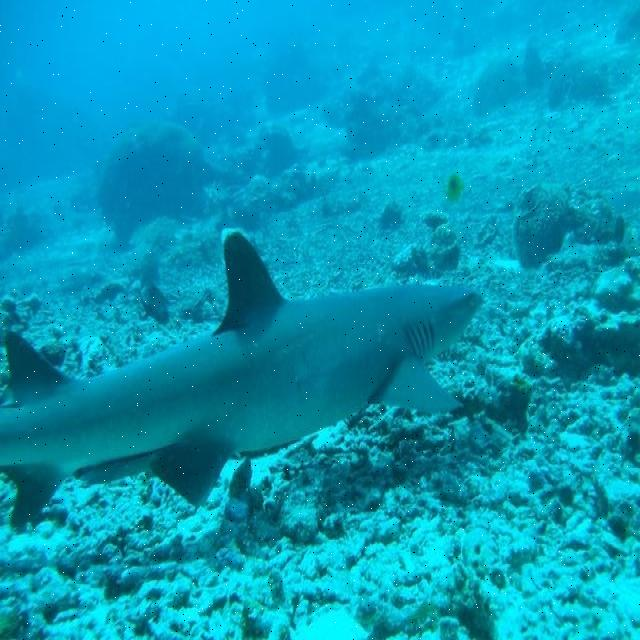fish: (1, 230, 484, 526)
